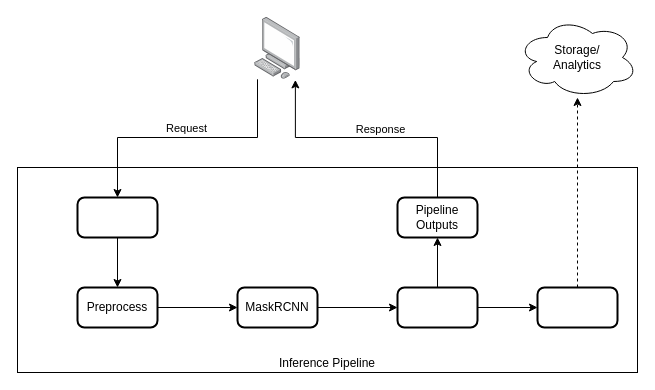
Image size: 655x390. Some labels were removed from this diagram. The shapes that lost their labels are listed below. From the top down, each one's centre as x and y in pixels, then its label:
[117,217]: Pipeline Inputs
[437,307]: Postprocess
[577,307]: Monitoring
